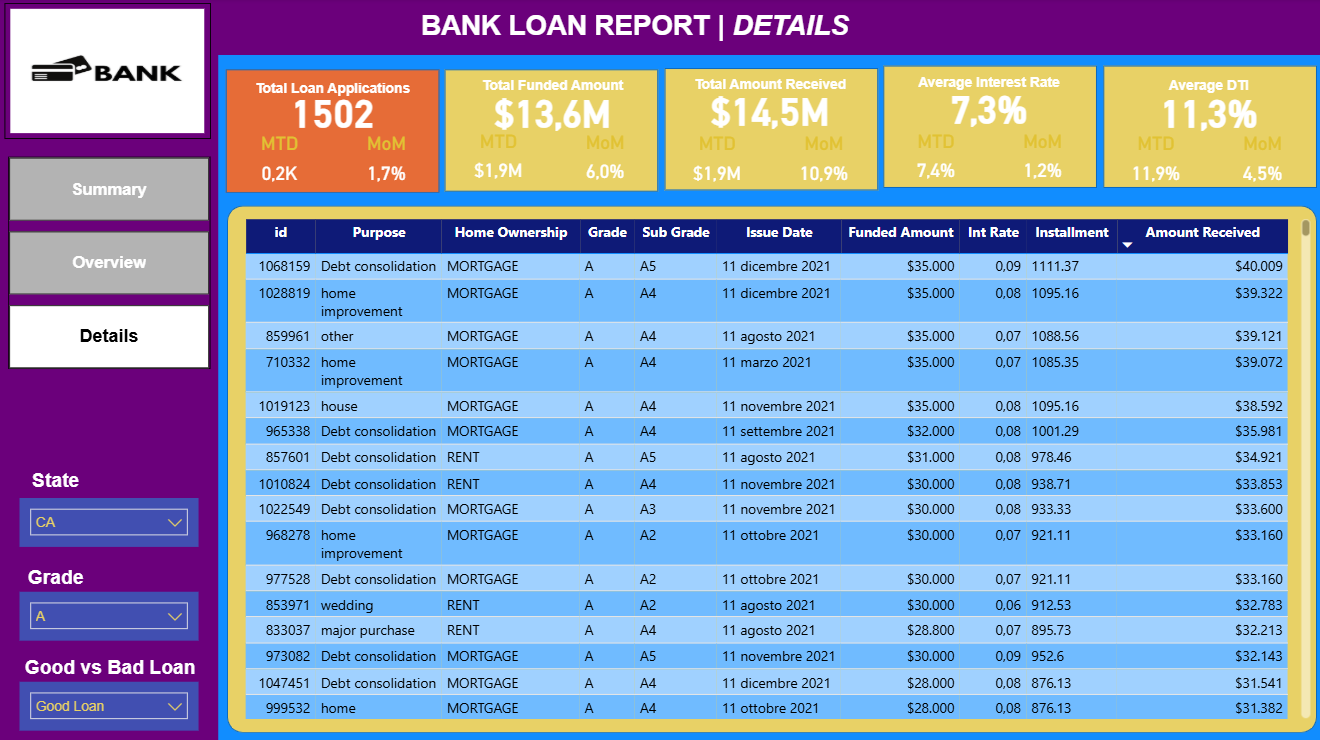

The page's visual inventory and layout, read from the dashboard file:
{"tool":"powerbi","page":{"name":"Details","canvas":[1280,720],"ordinal":2},"visuals":[{"type":"shape","box":[220.7,68.6,206.3,119.4],"z":0,"group":"g2"},{"type":"group","id":"g1","title":"Group 2","box":[431.7,69.3,206.3,118.3],"z":0,"group":"g6"},{"type":"shape","box":[222,200.3,1052,509.1],"z":0},{"type":"shape","box":[0,27.7,213.5,692.5],"z":1000},{"type":"shape","box":[0,0,1280,55],"z":2000},{"type":"textbox","box":[404.2,7.2,470.5,48.3],"z":3000},{"type":"shape","box":[1067.2,65.3,206.3,118.2],"z":4000},{"type":"card","fields":{"Values":["bank_loan_data.Total Loan Applications"]},"box":[220.7,77.3,206.3,62],"z":4000,"group":"g2"},{"type":"card","title":"MoM","fields":{"Values":["bank_loan_data.MoM Funded"]},"box":[535.6,129.9,102.4,57.7],"z":4000,"group":"g6"},{"type":"group","id":"g2","title":"Group 1","box":[220.7,68.6,206.3,119.4],"z":5000},{"type":"textbox","box":[220.7,72.2,206.3,30.2],"z":5000,"group":"g2"},{"type":"group","id":"g3","title":"Group 3","box":[642.7,67.2,207.2,120],"z":6000},{"type":"card","title":"MTD","fields":{"Values":["bank_loan_data.MTD Loan Applications"]},"box":[220.7,130.1,103.8,57.9],"z":6000,"group":"g2"},{"type":"group","id":"g4","title":"Group 4","box":[854.5,65.7,207.2,120],"z":7000},{"type":"card","title":"MoM","fields":{"Values":["bank_loan_data.MoM"]},"box":[324.5,130.1,102.5,57.9],"z":7000,"group":"g2"},{"type":"shape","box":[431.7,69.3,206.3,118.2],"z":8000,"group":"g1"},{"type":"group","id":"g5","title":"Group 5","box":[1066.3,69.5,206.3,118.3],"z":8000},{"type":"group","id":"g6","title":"Group 6","box":[431.7,69.3,206.3,118.3],"z":9000},{"type":"card","fields":{"Values":["bank_loan_data.Total Funded AMount"]},"box":[432.3,78,206.3,62],"z":9000,"group":"g1"},{"type":"textbox","box":[432.3,70.8,206.3,30.3],"z":10000,"group":"g1"},{"type":"slicer","fields":{"Values":["bank_loan_data.address_state"]},"box":[22,482.8,172.5,47.1],"z":10000},{"type":"card","title":"MTD","fields":{"Values":["bank_loan_data.MTD Funded Amount"]},"box":[431.7,128.4,103.8,57.9],"z":11000,"group":"g1"},{"type":"textbox","box":[22,450.2,70,32.6],"z":11000},{"type":"slicer","fields":{"Values":["bank_loan_data.grade"]},"box":[22,573.3,172.5,47.1],"z":12000},{"type":"shape","box":[643.6,67.2,206.3,118.2],"z":13000,"group":"g3"},{"type":"textbox","box":[22,544.3,70,32.6],"z":13000},{"type":"card","fields":{"Values":["bank_loan_data.Total Amount Received"]},"box":[642.7,76.1,206.3,62],"z":14000,"group":"g3"},{"type":"slicer","fields":{"Values":["bank_loan_data.Good vs Bad Loans"]},"box":[22,660.2,172.5,47.1],"z":14000},{"type":"textbox","box":[642.7,68.9,206.3,30.3],"z":15000,"group":"g3"},{"type":"textbox","box":[22,631.2,182.2,32.6],"z":15000},{"type":"card","title":"MTD","fields":{"Values":["bank_loan_data.MTD Received"]},"box":[642.7,129.5,103.9,57.7],"z":16000,"group":"g3"},{"type":"card","title":"MoM","fields":{"Values":["bank_loan_data.MoM Received"]},"box":[746.6,129.5,102.4,57.7],"z":17000,"group":"g3"},{"type":"shape","box":[855.4,65.7,206.3,118.2],"z":18000,"group":"g4"},{"type":"tableEx","fields":{"Values":["bank_loan_data.id","bank_loan_data.purpose","bank_loan_data.home_ownership","bank_loan_data.grade","bank_loan_data.sub_grade","bank_loan_data.issue_date","bank_loan_data.Total Funded Amount","Sum(bank_loan_data.int_rate)","bank_loan_data.installment","bank_loan_data.Total Amount Received"]},"box":[234,208.7,1038.7,491],"z":18000},{"type":"card","fields":{"Values":["bank_loan_data.AVG IntRate"]},"box":[854.5,74.6,206.3,62],"z":19000,"group":"g4"},{"type":"image","box":[7.2,4.8,199.1,131.5],"z":19001},{"type":"pageNavigator","box":[10.9,153.2,195.4,205.1],"z":19002},{"type":"textbox","box":[854.5,67.4,206.3,30.3],"z":20000,"group":"g4"},{"type":"card","title":"MTD","fields":{"Values":["bank_loan_data.MTD AVG"]},"box":[854.5,128,103.9,57.7],"z":21000,"group":"g4"},{"type":"card","title":"MoM","fields":{"Values":["bank_loan_data.MoM AVG"]},"box":[958.4,128,102.4,57.7],"z":22000,"group":"g4"},{"type":"card","fields":{"Values":["bank_loan_data.AVG DTI"]},"box":[1066.3,76.7,206.3,62],"z":24000,"group":"g5"},{"type":"textbox","box":[1066.3,69.5,206.3,30.3],"z":25000,"group":"g5"},{"type":"card","title":"MTD","fields":{"Values":["bank_loan_data.MTD ADTI"]},"box":[1066.3,130.1,103.9,57.7],"z":26000,"group":"g5"},{"type":"card","title":"MoM","fields":{"Values":["bank_loan_data.MoM ADTI"]},"box":[1170.2,130.1,102.4,57.7],"z":27000,"group":"g5"}]}

Visuals, with their boxes in screenshot pixels (x1, y1, x2, y2), scaled from the page's 1280x720 canvas onto the 1320x740 screenshot:
shape: 228:71:440:193
"Group 2" group: 445:71:658:193
shape: 229:206:1314:729
shape: 0:28:220:739
shape: 0:0:1319:57
textbox: 417:7:902:57
shape: 1101:67:1313:189
card - bank_loan_data.Total Loan Applications: 228:79:440:143
"MoM" card: 552:134:658:193
"Group 1" group: 228:71:440:193
textbox: 228:74:440:105
"Group 3" group: 663:69:876:192
"MTD" card: 228:134:335:193
"Group 4" group: 881:68:1095:191
"MoM" card: 335:134:440:193
shape: 445:71:658:193
"Group 5" group: 1100:71:1312:193
"Group 6" group: 445:71:658:193
card - bank_loan_data.Total Funded AMount: 446:80:659:144
textbox: 446:73:659:104
slicer - bank_loan_data.address_state: 23:496:201:545
"MTD" card: 445:132:552:191
textbox: 23:463:95:496
slicer - bank_loan_data.grade: 23:589:201:638
shape: 664:69:876:191
textbox: 23:559:95:593
card - bank_loan_data.Total Amount Received: 663:78:876:142
slicer - bank_loan_data.Good vs Bad Loans: 23:679:201:727
textbox: 663:71:876:102
textbox: 23:649:211:682
"MTD" card: 663:133:770:192
"MoM" card: 770:133:876:192
shape: 882:68:1095:189
tableEx - bank_loan_data.id x bank_loan_data.purpose: 241:214:1312:719
card - bank_loan_data.AVG IntRate: 881:77:1094:140
image: 7:5:213:140
pageNavigator: 11:157:213:368
textbox: 881:69:1094:100
"MTD" card: 881:132:988:191
"MoM" card: 988:132:1094:191
card - bank_loan_data.AVG DTI: 1100:79:1312:143
textbox: 1100:71:1312:103
"MTD" card: 1100:134:1207:193
"MoM" card: 1207:134:1312:193
